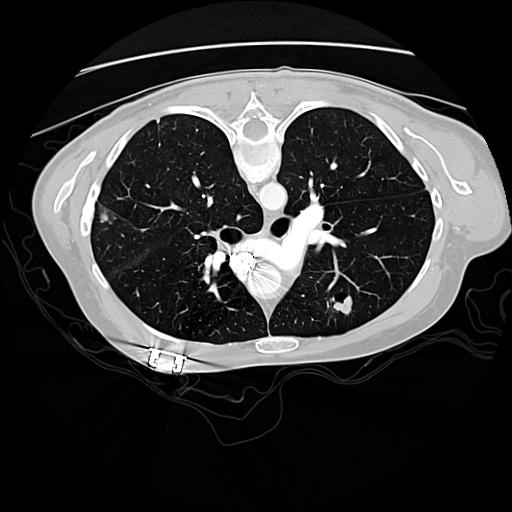nodule: (331, 295, 354, 318)
